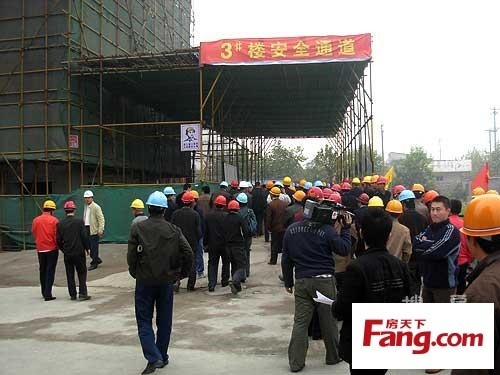blue: (146, 189, 167, 215), (399, 190, 415, 209), (235, 191, 248, 206), (163, 186, 175, 200), (303, 182, 312, 192), (219, 181, 228, 189)
none: (357, 211, 394, 252), (430, 195, 450, 222), (447, 197, 462, 217), (182, 182, 192, 192), (200, 185, 210, 194), (254, 181, 261, 188)
red: (308, 187, 324, 203), (213, 194, 226, 208), (391, 184, 405, 197), (64, 201, 76, 216), (227, 199, 239, 213), (358, 192, 369, 205), (340, 180, 350, 193), (377, 176, 386, 189)
white: (82, 189, 94, 205), (238, 181, 248, 193)
yellow: (465, 193, 500, 260), (385, 199, 402, 219), (130, 198, 145, 216), (368, 195, 384, 211), (410, 182, 424, 199), (291, 189, 306, 204), (41, 199, 56, 213), (269, 187, 281, 199), (370, 174, 379, 188), (190, 189, 199, 202), (363, 175, 370, 189), (283, 176, 291, 188), (351, 177, 360, 187), (266, 180, 273, 190)
